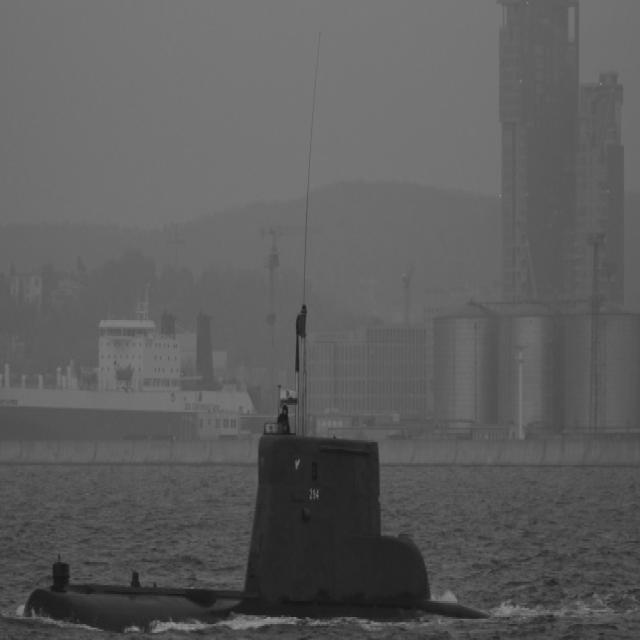submarine: (17, 443, 545, 639)
